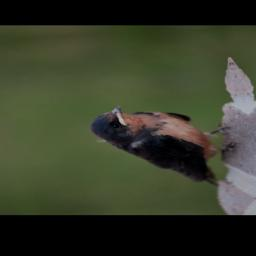Swallow: (82, 99, 253, 195)
